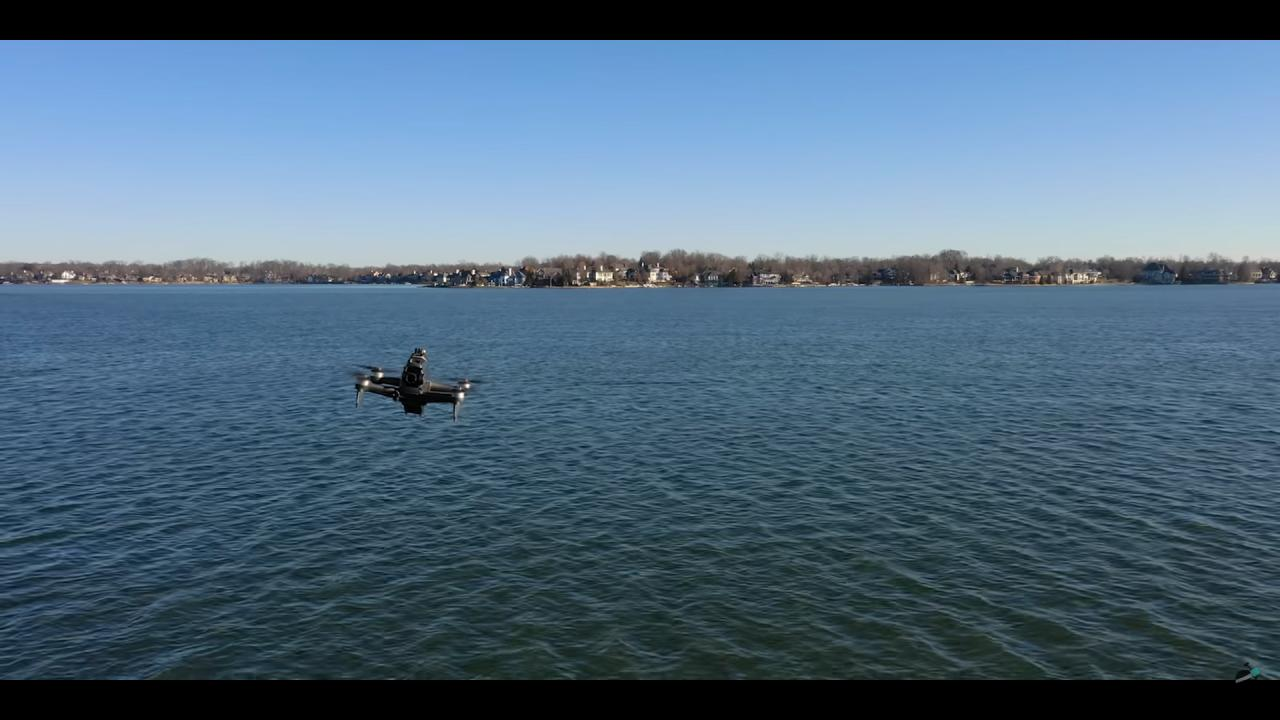Drone: (341, 339, 485, 428)
